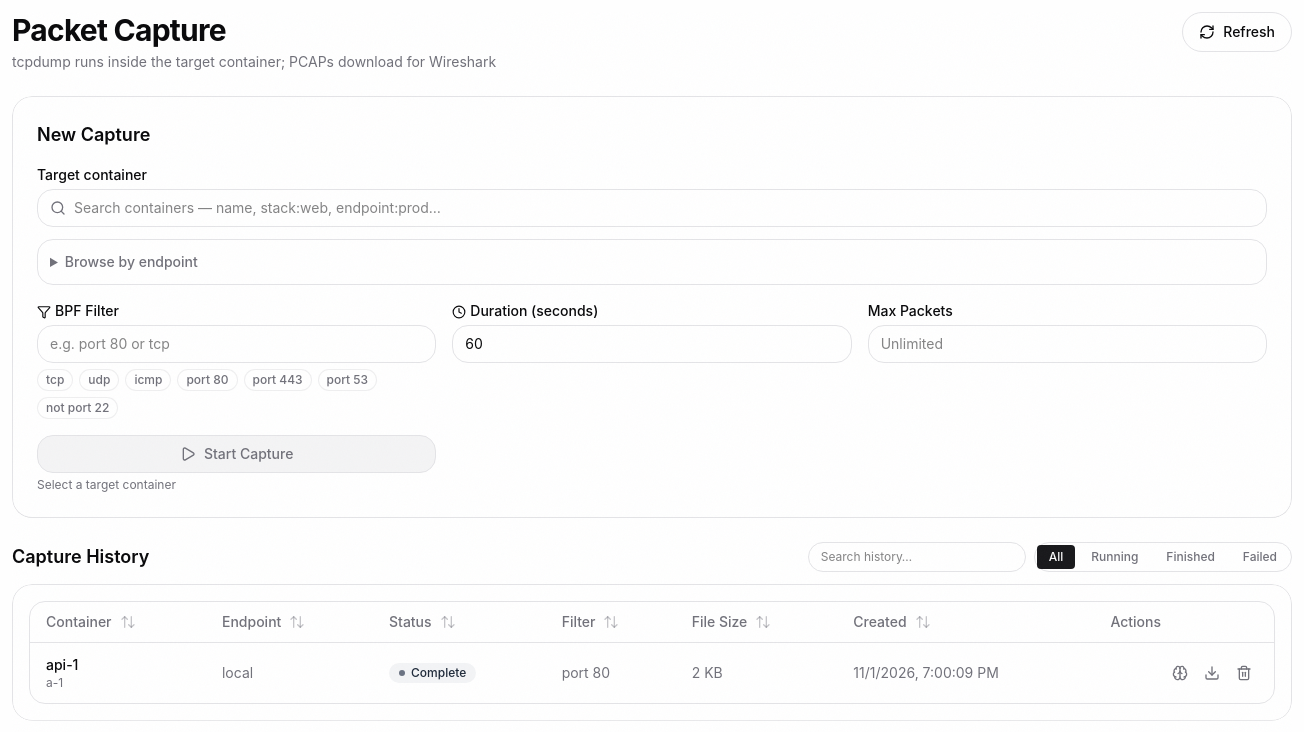
Test case: PacketCapture › status tabs › tells the operator where the rest of their history went
This screenshot has width=1304, height=732.
Click the button "Failed" at (1260, 557), box [1231, 545, 1289, 569]
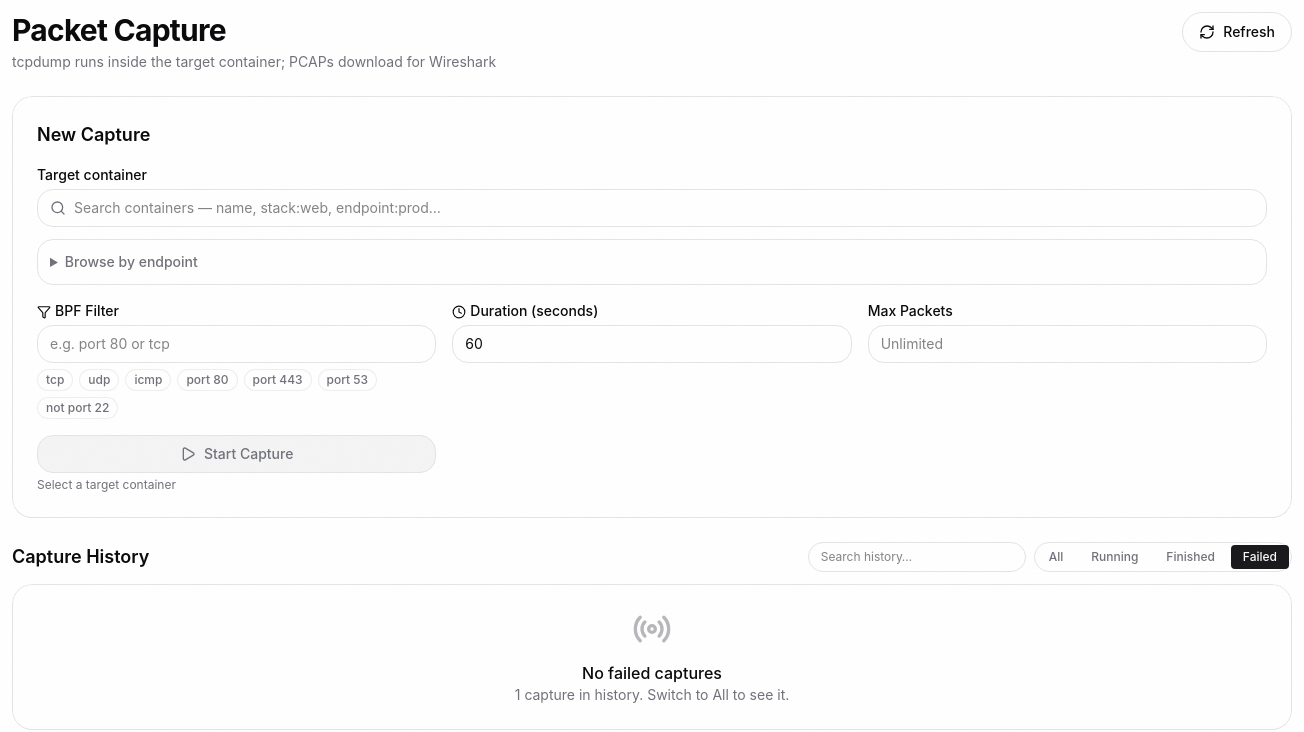
Expected: the text "No failed captures" is shown, [582, 663, 722, 683]
Expected: the text "1 capture in history. Switch to All to see it." is shown, [515, 686, 789, 703]
